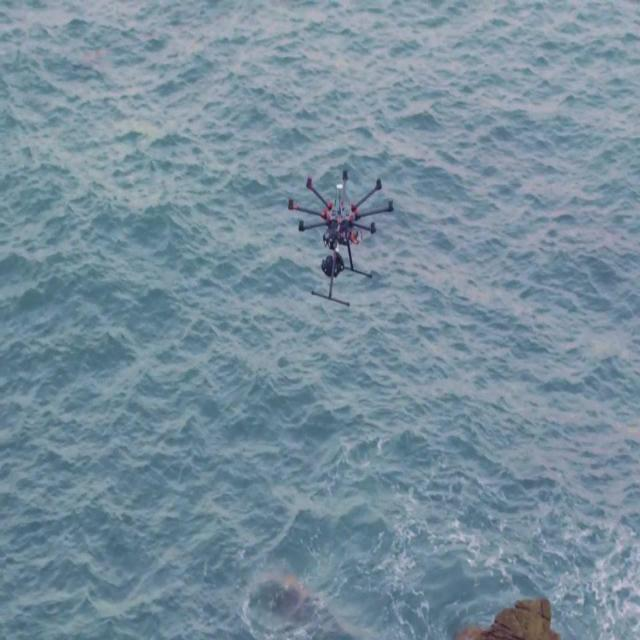UAV: (288, 169, 394, 307)
